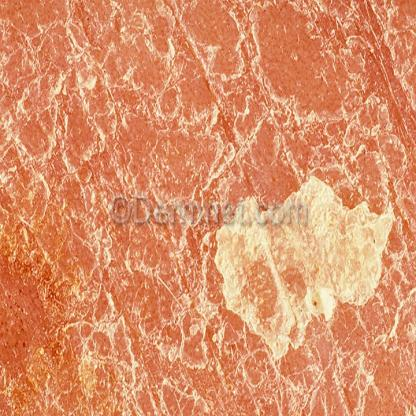Psoriasis: (3, 1, 416, 416)
